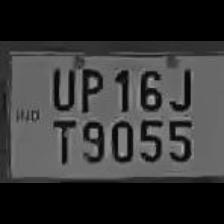0: (106, 114, 134, 164)
1: (105, 62, 133, 114)
5: (164, 113, 195, 162), (135, 114, 163, 162)
6: (134, 62, 164, 112)
9: (78, 115, 106, 163)
J: (165, 61, 195, 112)
P: (76, 62, 106, 112)
T: (46, 116, 76, 164)
U: (46, 62, 76, 110)
